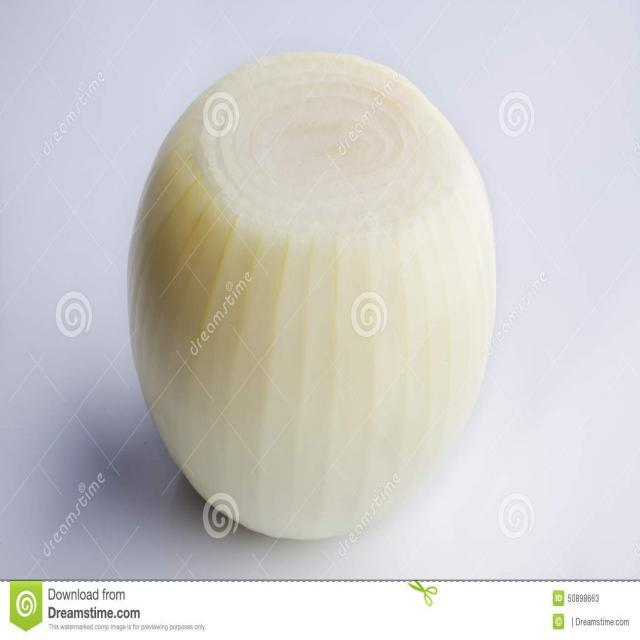onion: (126, 49, 501, 543)
